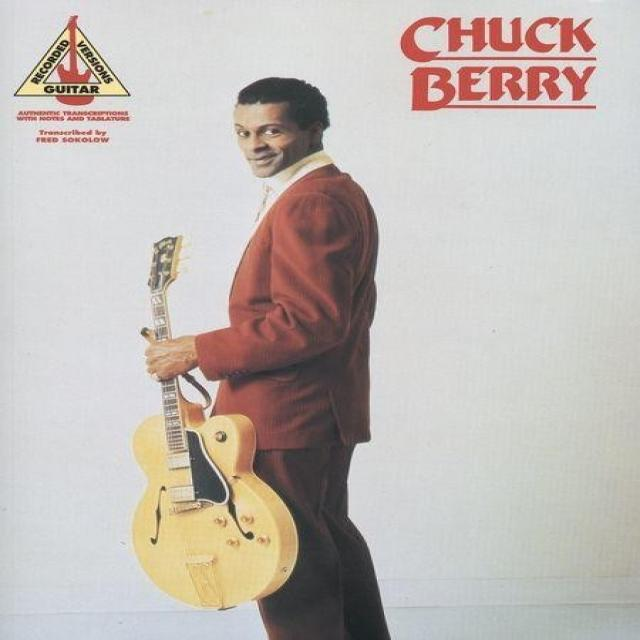guitar: (125, 231, 301, 612)
